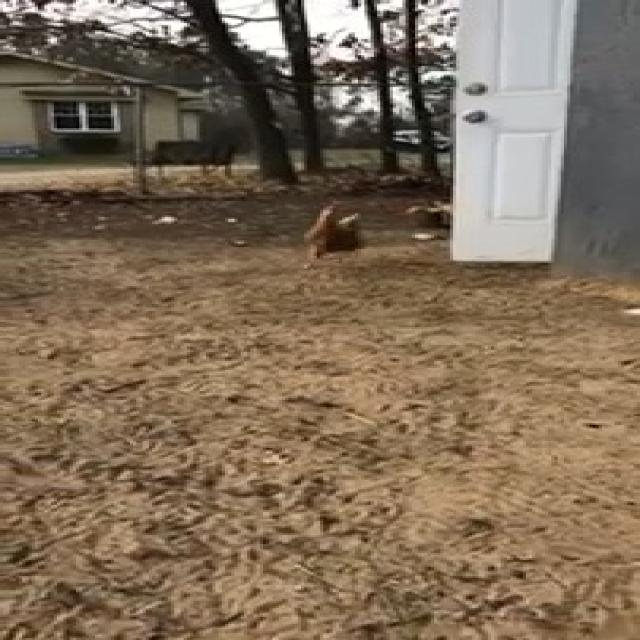running: (291, 201, 393, 265)
